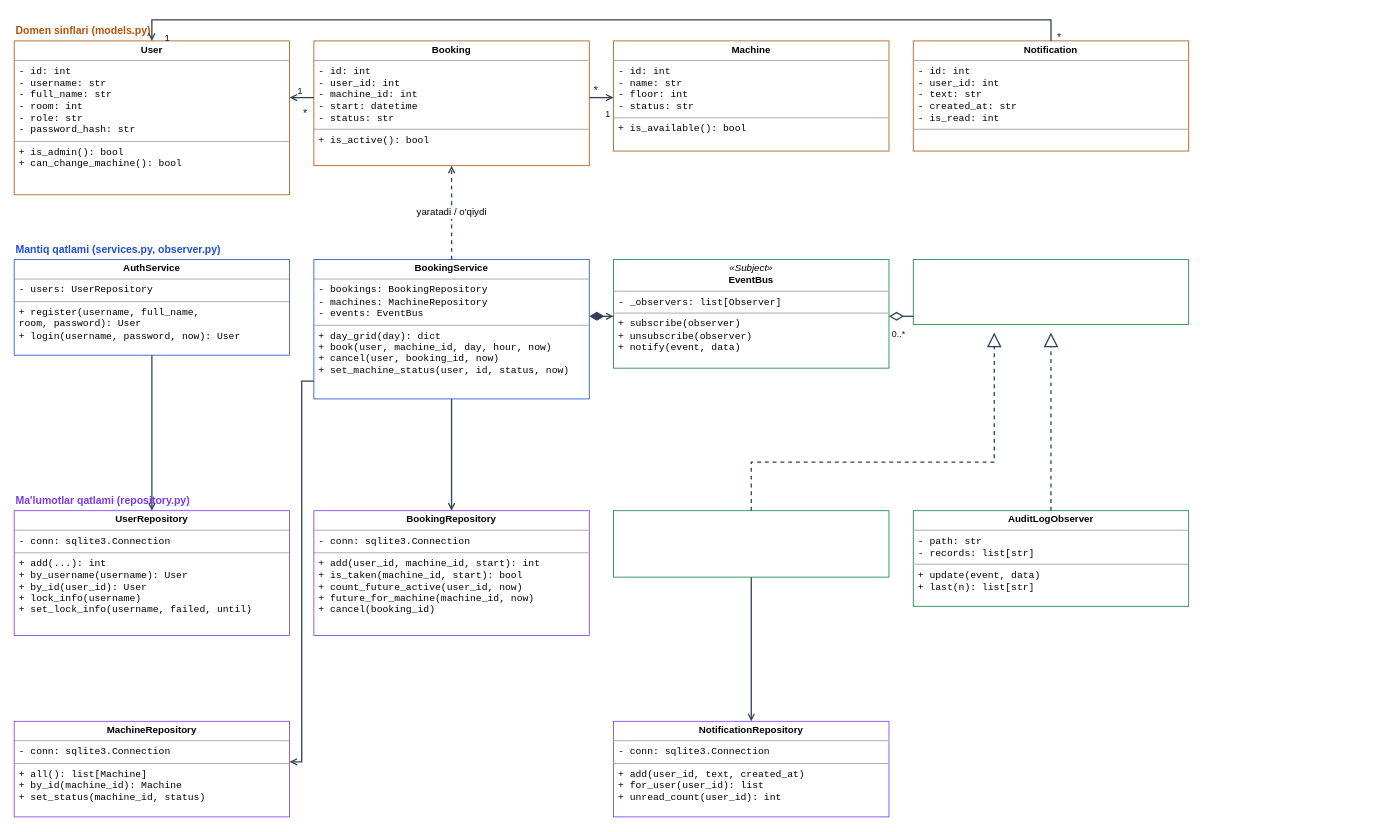
The diagram is 1394 pixels wide and 832 high, and some of its shapes have lost their labels. Here are the shapes that lost their labels. From the top down, the centre of each, then its label:
At (1050,291): "«interface» Observer + update(event, data) {abstract}".
At (751,543): "NotificationObserver - repo: NotificationRepository + update(event, data)".
